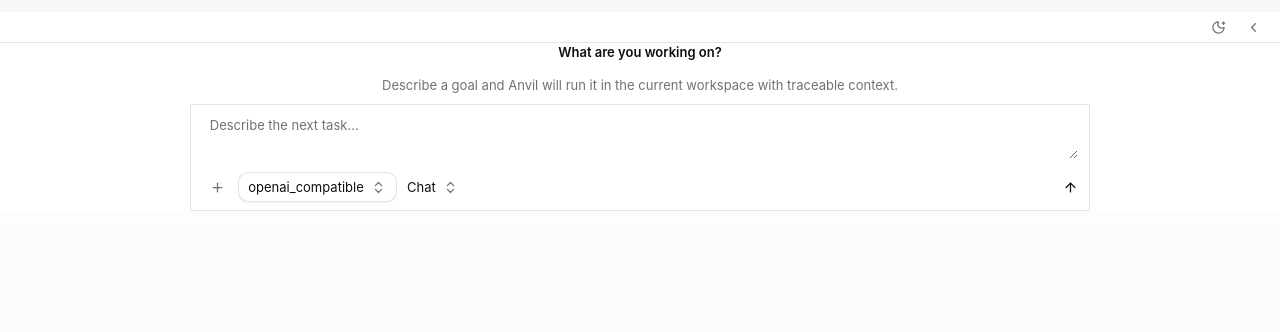
WorkspaceShell › renders chat-first shell with execution modes and utility drawer
Check: the heading "What are you working on?" is shown, box [558,43,722,62]
Check: the button "Chat" is shown, box [402,172,463,202]
Click the button named "open utilities": click(1254, 27) [1239,12,1269,42]
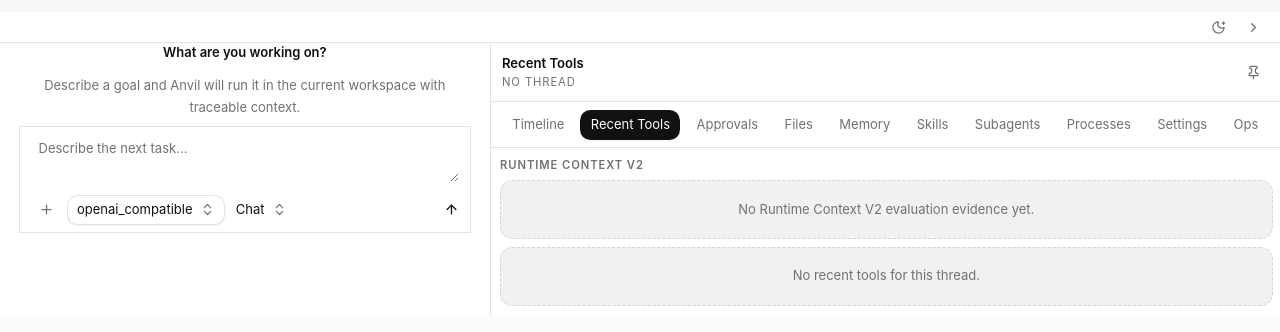
Check: the button named "close utilities" is shown
Click the button named "close utilities": click(1254, 27) [1239,12,1269,42]
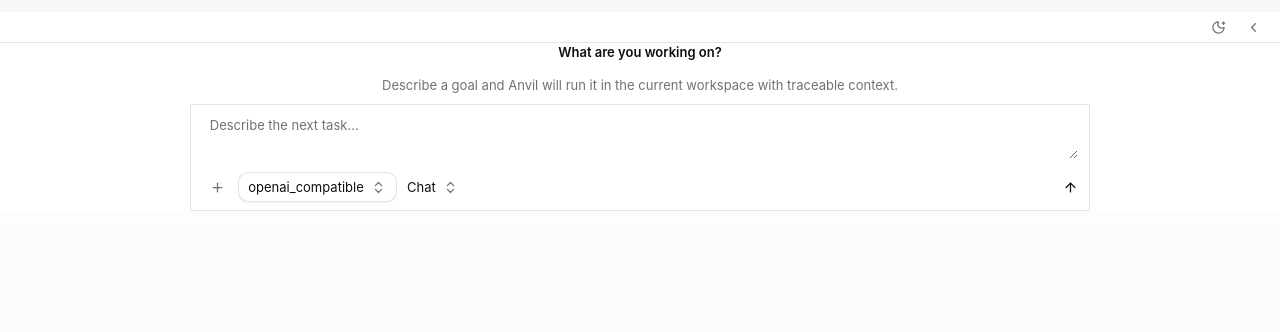
Check: the button named "open utilities" is shown, box [1239,12,1269,42]
